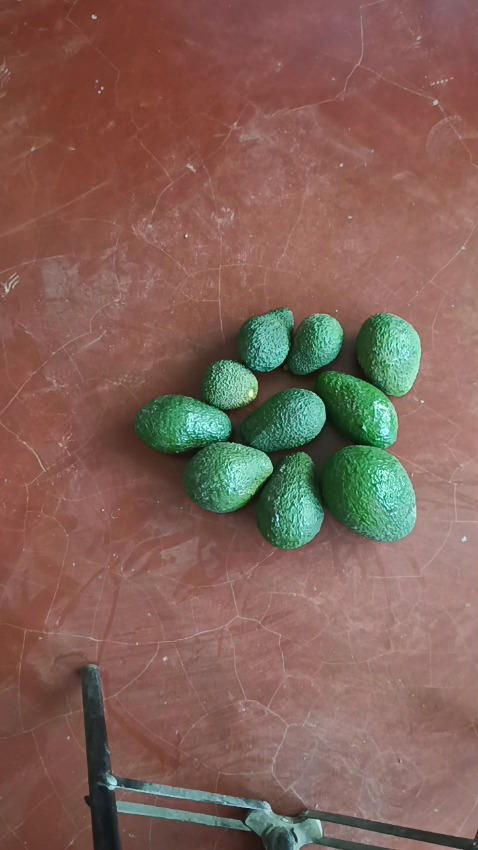Primera: (319, 444, 417, 540)
Segunda: (254, 453, 324, 547), (313, 370, 398, 447), (184, 441, 274, 513), (134, 395, 231, 454), (354, 311, 422, 395), (240, 388, 326, 453)
Tercera: (236, 308, 295, 373), (286, 313, 344, 376), (199, 358, 259, 411)
